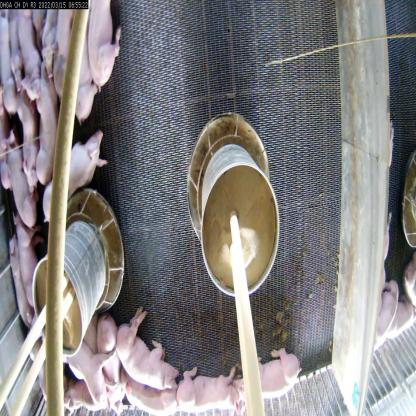Pig: (36, 125, 111, 222), (111, 313, 184, 398), (21, 61, 66, 194), (50, 325, 111, 404), (171, 360, 250, 416), (233, 352, 300, 411), (80, 5, 123, 81), (14, 209, 42, 310)
